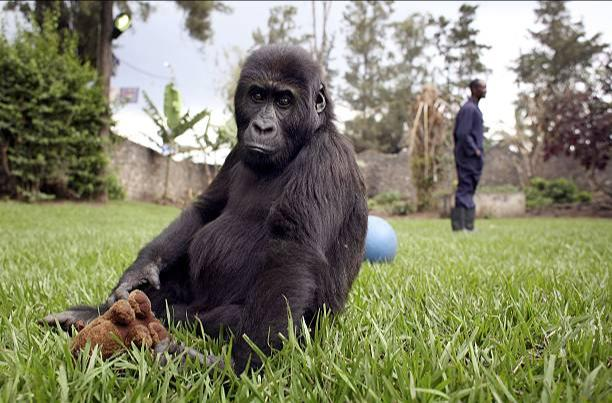gorille_Autres: (95, 0, 410, 295)
